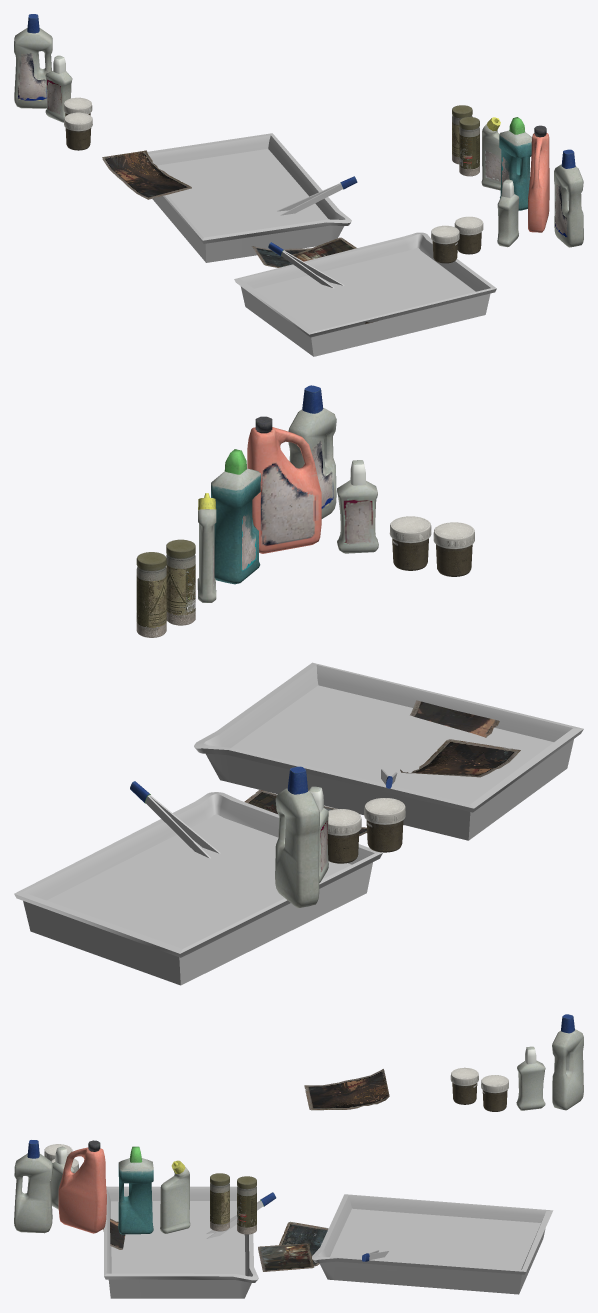
File: sm39_163_pictureset01a.fbx
3 renders of one model, top to bottom at view 1: azimuth 30°, elevation 25°; view 2: azimuth 150°, elevation 25°; view 3: azimuth 270°, elevation 25°, orthographic. The views are drawn at different scales.
Parts seen in each view (by area): view 1: LOD_1_Group_0_Sub_1__sm32_011_DarkroomTray01A_A_Mat, LOD_1_Group_1_Sub_1__sm32_011_DarkroomTray01A_B_Mat, LOD_1_Group_0_Sub_2__sm36_018_WashingMaterial01A_A_Mat, LOD_1_Group_1_Sub_2__sm36_025_Seasoning01A_A_Mat, LOD_1_Group_3_Sub_2__sm36_026_PictureHanger01A_A_Mat, LOD_1_Group_4_Sub_2__sm36_026_PictureHanger01A_A_Mat, LOD_1_Group_1_Sub_3__sm36_026_PictureHanger01A_A_Mat; view 2: LOD_1_Group_0_Sub_1__sm32_011_DarkroomTray01A_A_Mat, LOD_1_Group_1_Sub_1__sm32_011_DarkroomTray01A_B_Mat, LOD_1_Group_0_Sub_2__sm36_018_WashingMaterial01A_A_Mat, LOD_1_Group_1_Sub_2__sm36_025_Seasoning01A_A_Mat, LOD_1_Group_3_Sub_2__sm36_026_PictureHanger01A_A_Mat, LOD_1_Group_5_Sub_1__sm36_026_PictureHanger01A_A_Mat; view 3: LOD_1_Group_1_Sub_1__sm32_011_DarkroomTray01A_B_Mat, LOD_1_Group_0_Sub_2__sm36_018_WashingMaterial01A_A_Mat, LOD_1_Group_0_Sub_1__sm32_011_DarkroomTray01A_A_Mat, LOD_1_Group_1_Sub_2__sm36_025_Seasoning01A_A_Mat, LOD_1_Group_3_Sub_2__sm36_026_PictureHanger01A_A_Mat, LOD_1_Group_4_Sub_2__sm36_026_PictureHanger01A_A_Mat, LOD_1_Group_1_Sub_3__sm36_026_PictureHanger01A_A_Mat.
Part boxes in pixels (x1,y1,x2,y2): LOD_1_Group_0_Sub_1__sm32_011_DarkroomTray01A_A_Mat: (147,133,496,356); LOD_1_Group_1_Sub_1__sm32_011_DarkroomTray01A_B_Mat: (157,149,475,331); LOD_1_Group_0_Sub_2__sm36_018_WashingMaterial01A_A_Mat: (14,14,583,255); LOD_1_Group_1_Sub_2__sm36_025_Seasoning01A_A_Mat: (63,97,483,263); LOD_1_Group_3_Sub_2__sm36_026_PictureHanger01A_A_Mat: (102,150,191,199); LOD_1_Group_4_Sub_2__sm36_026_PictureHanger01A_A_Mat: (292,237,356,261); LOD_1_Group_1_Sub_3__sm36_026_PictureHanger01A_A_Mat: (251,246,310,267); LOD_1_Group_0_Sub_1__sm32_011_DarkroomTray01A_A_Mat: (14,662,583,985); LOD_1_Group_1_Sub_1__sm32_011_DarkroomTray01A_B_Mat: (47,685,553,948); LOD_1_Group_0_Sub_2__sm36_018_WashingMaterial01A_A_Mat: (130,385,392,907); LOD_1_Group_1_Sub_2__sm36_025_Seasoning01A_A_Mat: (136,516,474,863); LOD_1_Group_3_Sub_2__sm36_026_PictureHanger01A_A_Mat: (400,739,520,777); LOD_1_Group_5_Sub_1__sm36_026_PictureHanger01A_A_Mat: (410,700,499,737); LOD_1_Group_1_Sub_1__sm32_011_DarkroomTray01A_B_Mat: (111,1201,540,1275); LOD_1_Group_0_Sub_2__sm36_018_WashingMaterial01A_A_Mat: (14,1014,583,1261); LOD_1_Group_0_Sub_1__sm32_011_DarkroomTray01A_A_Mat: (104,1186,553,1298); LOD_1_Group_1_Sub_2__sm36_025_Seasoning01A_A_Mat: (44,1067,508,1234); LOD_1_Group_3_Sub_2__sm36_026_PictureHanger01A_A_Mat: (304,1069,389,1110); LOD_1_Group_4_Sub_2__sm36_026_PictureHanger01A_A_Mat: (258,1243,314,1271); LOD_1_Group_1_Sub_3__sm36_026_PictureHanger01A_A_Mat: (279,1221,328,1266).
Bounding box in the file's own units: 0.9584 × 0.5519 × 1.6.
